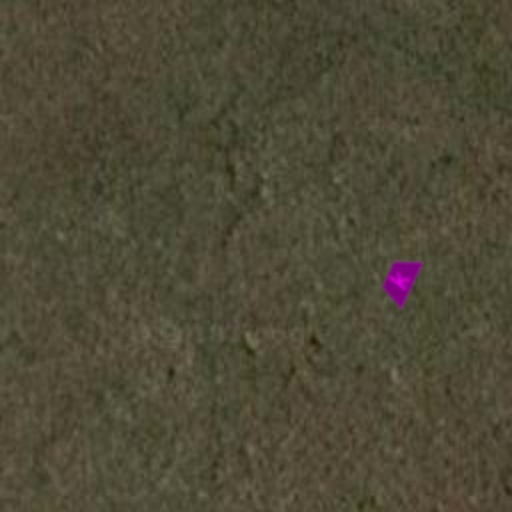trapezoid: (364, 244, 436, 316)
